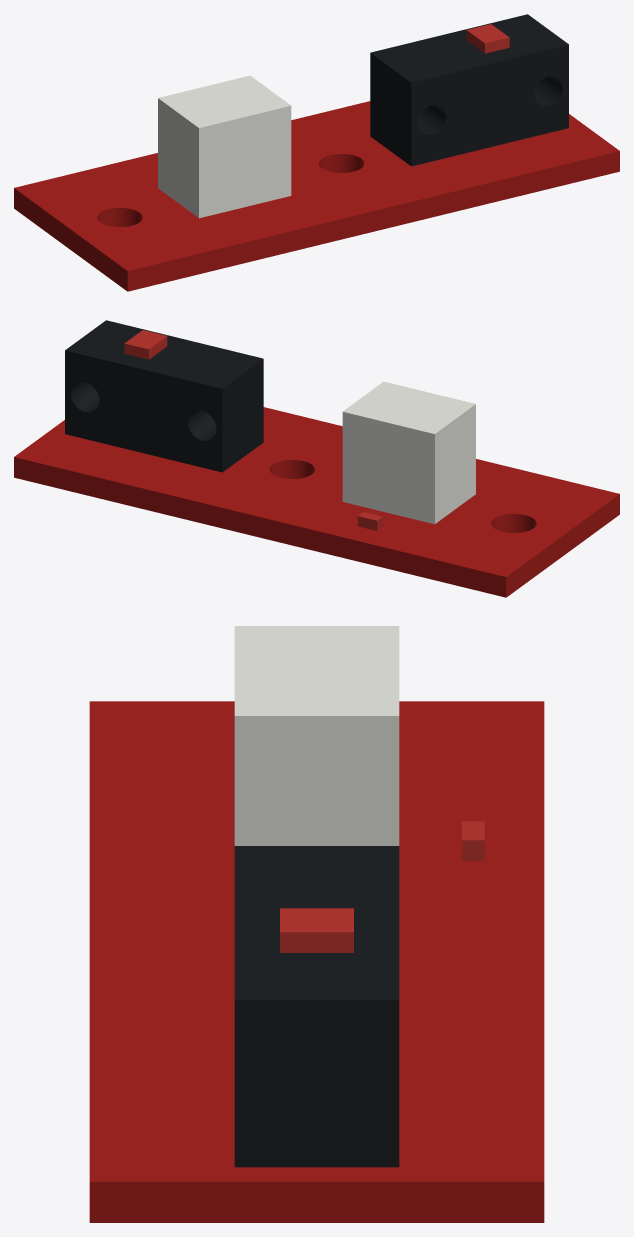
File: fc_mecanico_base.glb
3 views of the same model, one above another, from view 1: azimuth 30°, elevation 25°; view 2: azimuth 150°, elevation 25°; view 3: azimuth 270°, elevation 25° (orthographic). The views are drawn at different scales.
Visible parts, largest first — view 1: fc_mecanico_base; view 2: fc_mecanico_base; view 3: fc_mecanico_base.
Part boxes in pixels (box(x1,y1,x2,y2)): fc_mecanico_base: box(14, 14, 619, 291); fc_mecanico_base: box(14, 320, 619, 597); fc_mecanico_base: box(89, 626, 544, 1222).
Bounding box in the file's own units: 40 × 8.9 × 16.
